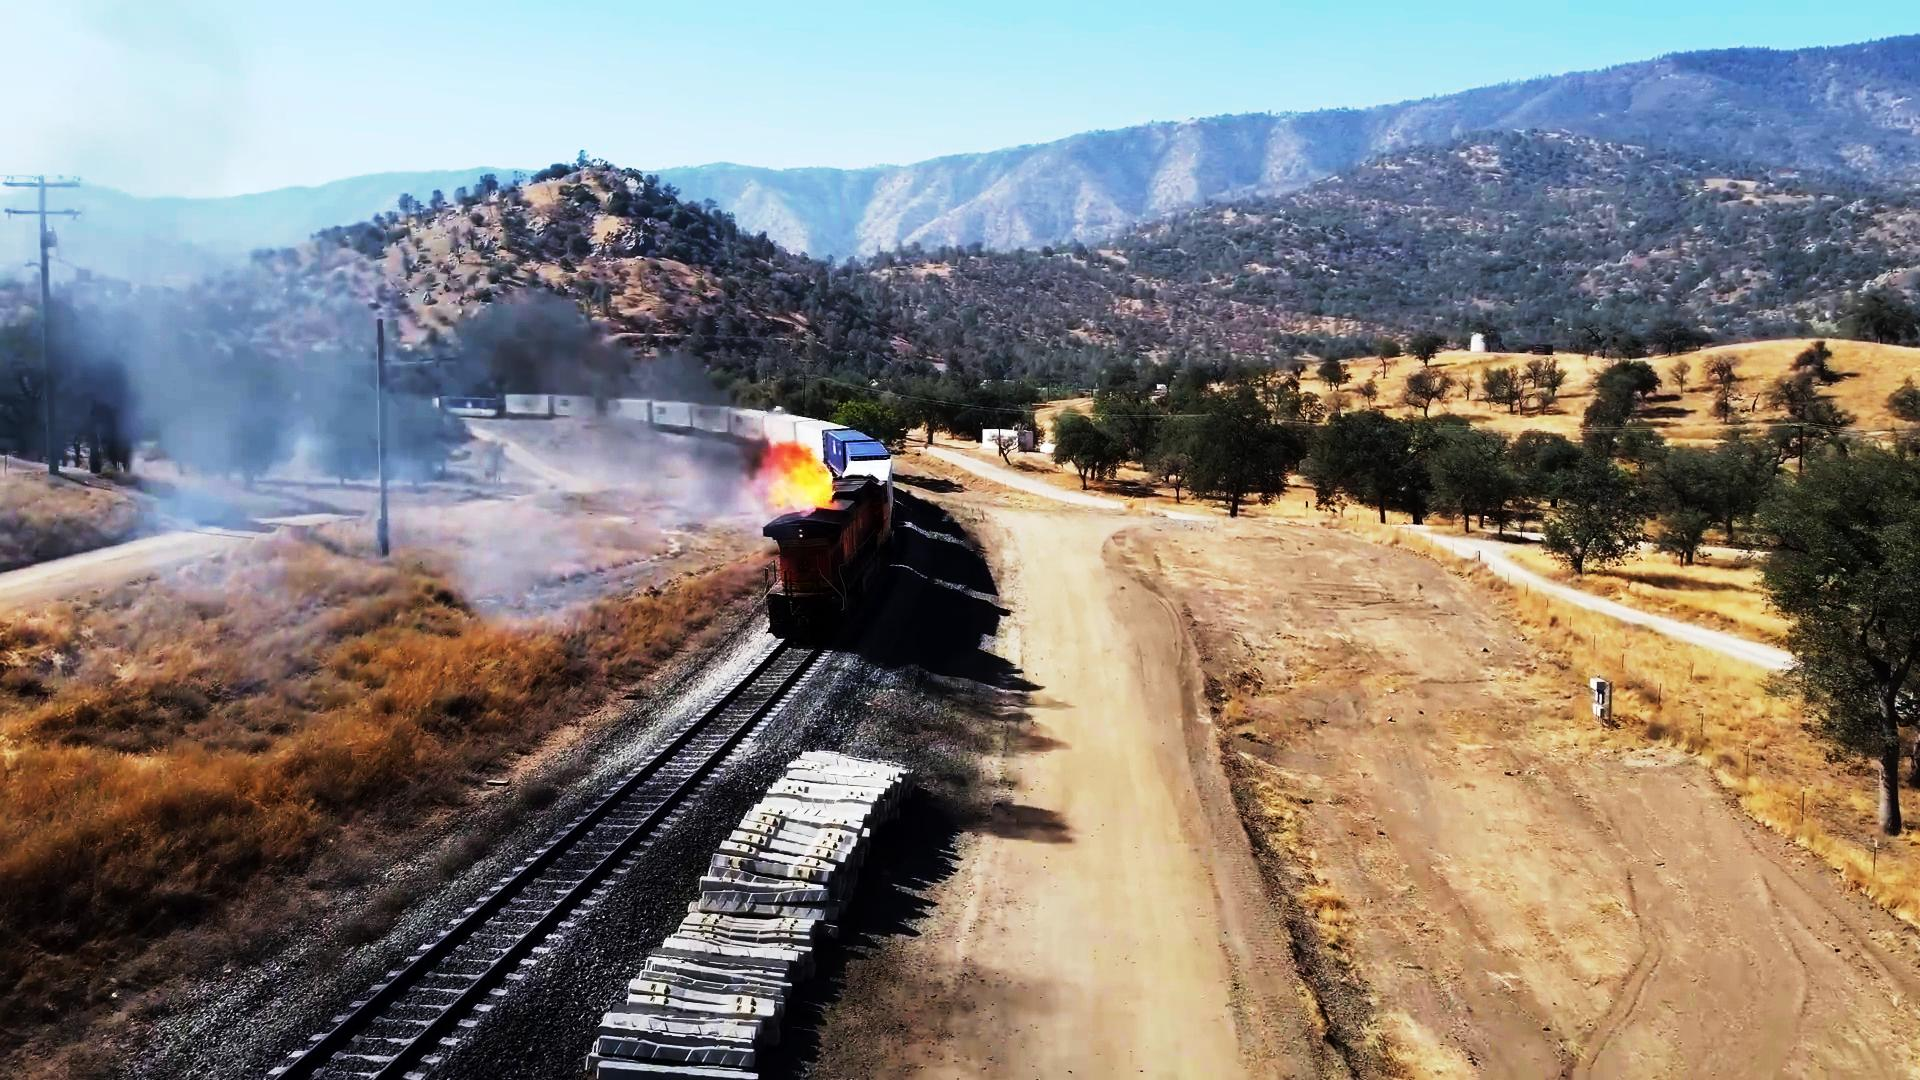fire: (131, 253, 359, 492), (758, 443, 841, 530)
